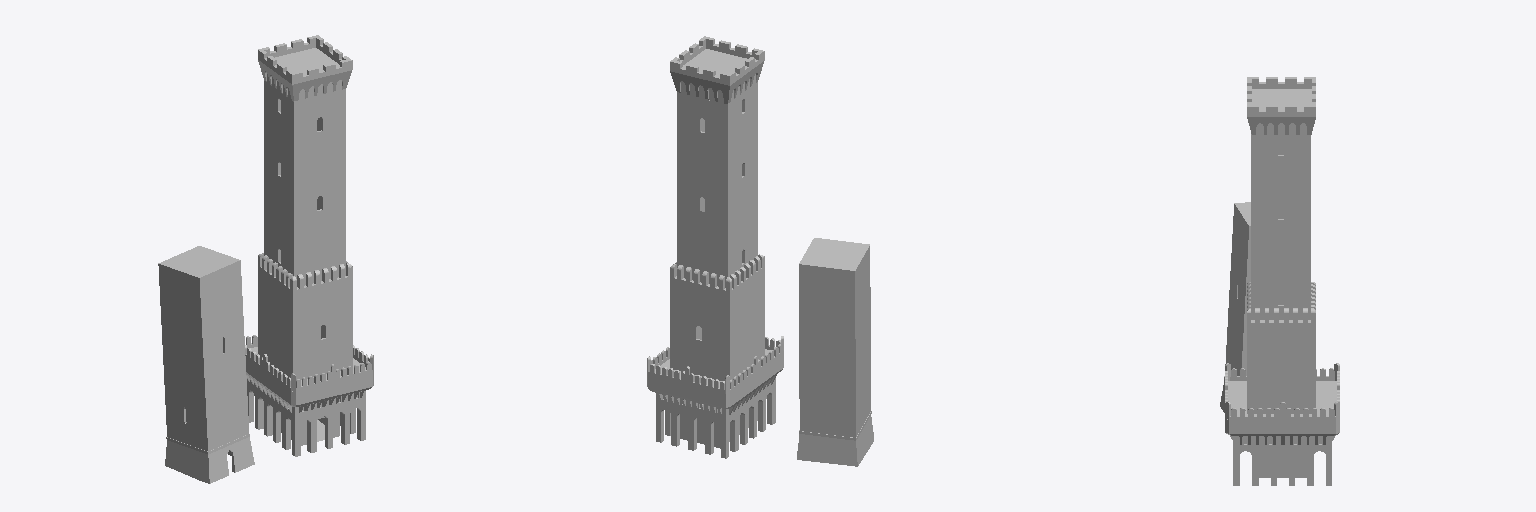
The model's file is TorriMedie.obj.
The picture shows the model from 3 angles: view 1: azimuth 30°, elevation 25°; view 2: azimuth 150°, elevation 25°; view 3: azimuth 270°, elevation 25°; orthographic projection.
Visible parts, largest first — view 1: Torri Gigatorre, MiniTorre Torri; view 2: Torri Gigatorre, MiniTorre Torri; view 3: Torri Gigatorre, MiniTorre Torri.
Part boxes in pixels (x1,y1,x2,y2): Torri Gigatorre: (245, 35, 373, 456); MiniTorre Torri: (158, 246, 254, 483); Torri Gigatorre: (647, 36, 783, 458); MiniTorre Torri: (797, 238, 873, 466); Torri Gigatorre: (1225, 77, 1339, 485); MiniTorre Torri: (1220, 202, 1250, 412).
Bounding box in the file's own units: 6.69 × 13.02 × 3.78.